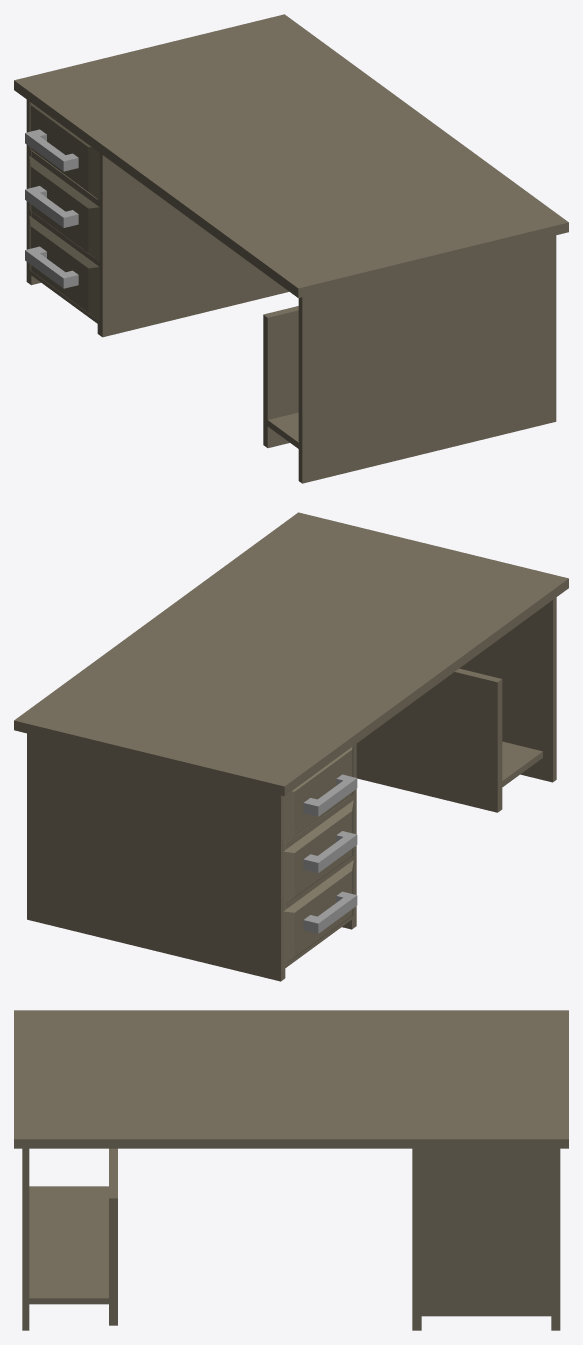
Rendered from desk.fbx.
3 renders of one model, top to bottom at view 1: azimuth 30°, elevation 25°; view 2: azimuth 150°, elevation 25°; view 3: azimuth 270°, elevation 25°, orthographic. The views are drawn at different scales.
Visible parts, largest first — view 1: Cube, Cube.003, Cube.004, Cube.001, Cube.002, Cube.005, Cube.006; view 2: Cube, Cube.003, Cube.004, Cube.001, Cube.002, Cube.006, Cube.005; view 3: Cube.
Boxes of the visible parts, x1,y1,x2,y2 form: Cube: [14, 14, 568, 483]; Cube.003: [29, 156, 99, 261]; Cube.004: [29, 216, 99, 321]; Cube.001: [29, 101, 99, 200]; Cube.002: [25, 246, 78, 288]; Cube.005: [25, 129, 78, 171]; Cube.006: [25, 186, 78, 227]; Cube: [14, 512, 568, 981]; Cube.003: [283, 800, 353, 905]; Cube.004: [283, 860, 353, 964]; Cube.001: [283, 746, 353, 843]; Cube.002: [303, 891, 357, 933]; Cube.006: [303, 831, 357, 873]; Cube.005: [303, 774, 357, 816]; Cube: [14, 1010, 568, 1330].
Size of the model in its own units: 452 by 307 by 790.
